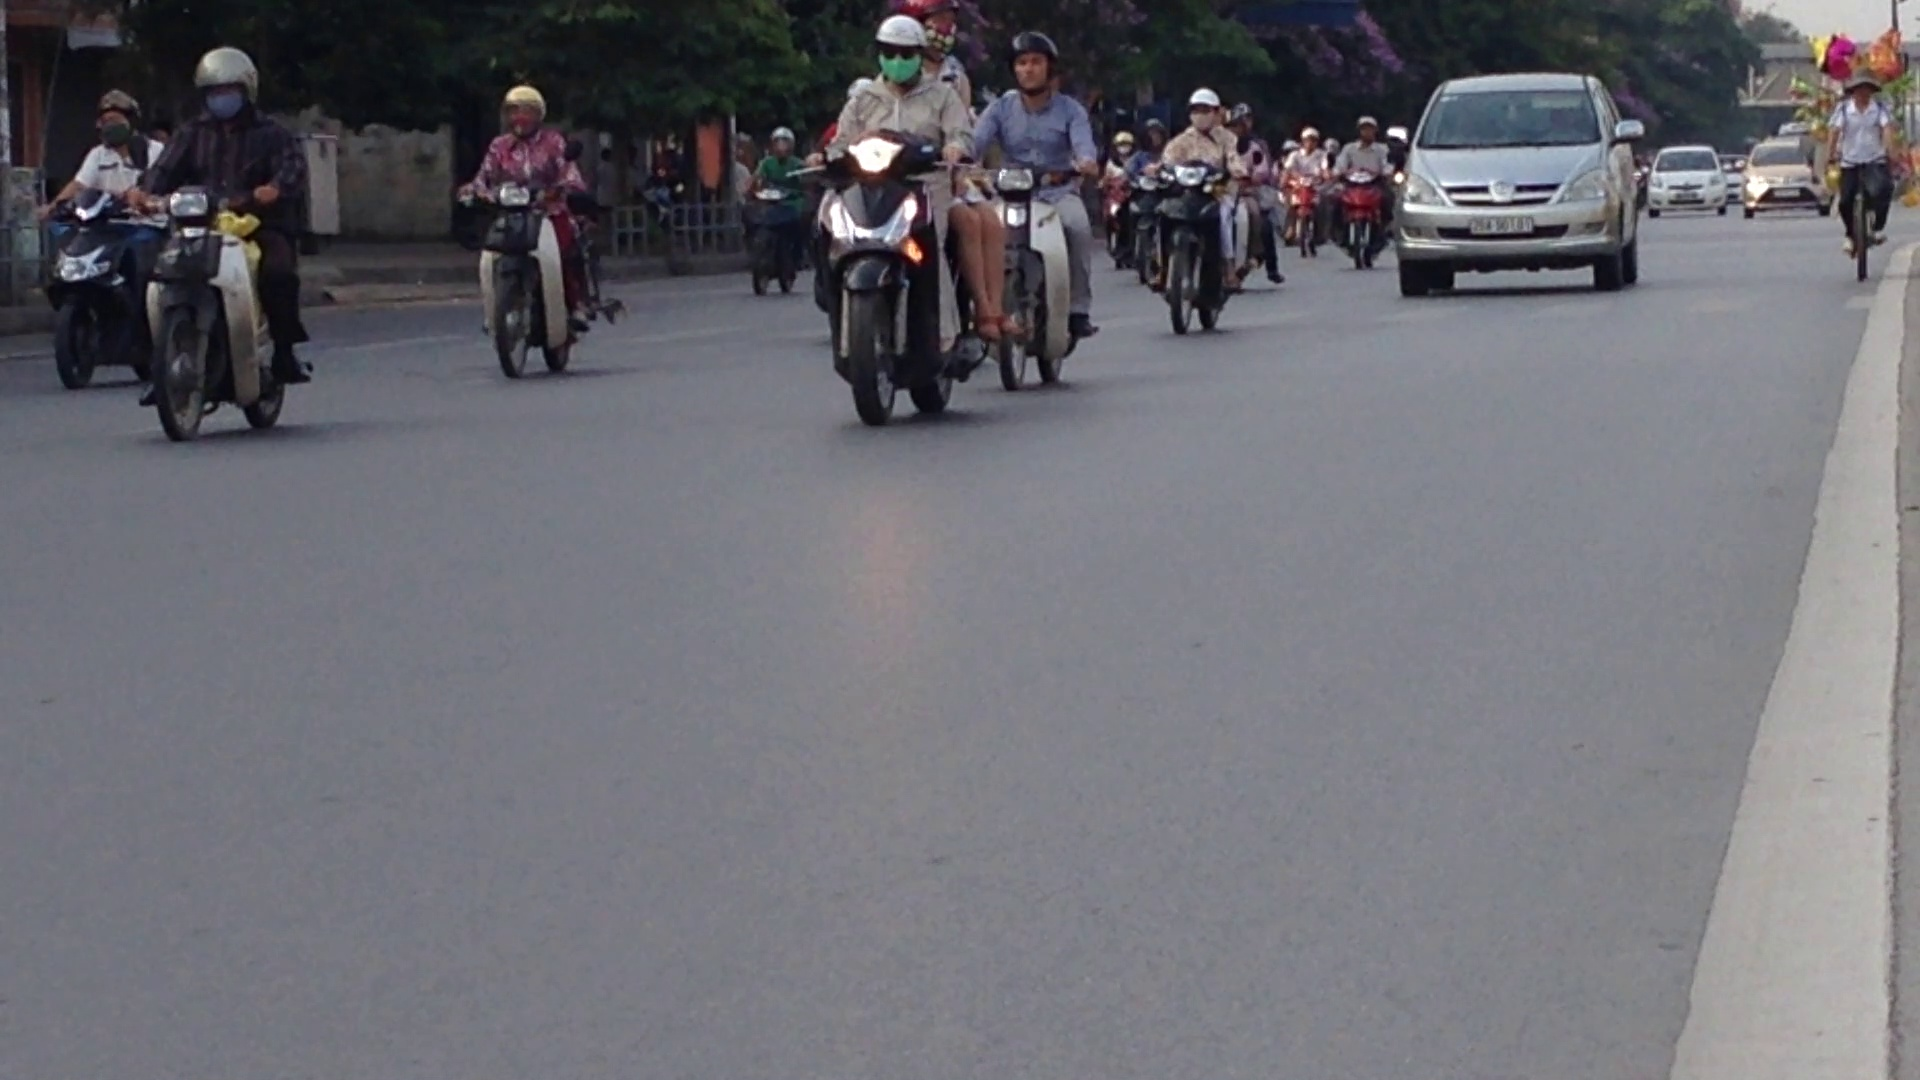person: (1465, 211, 1539, 236)
